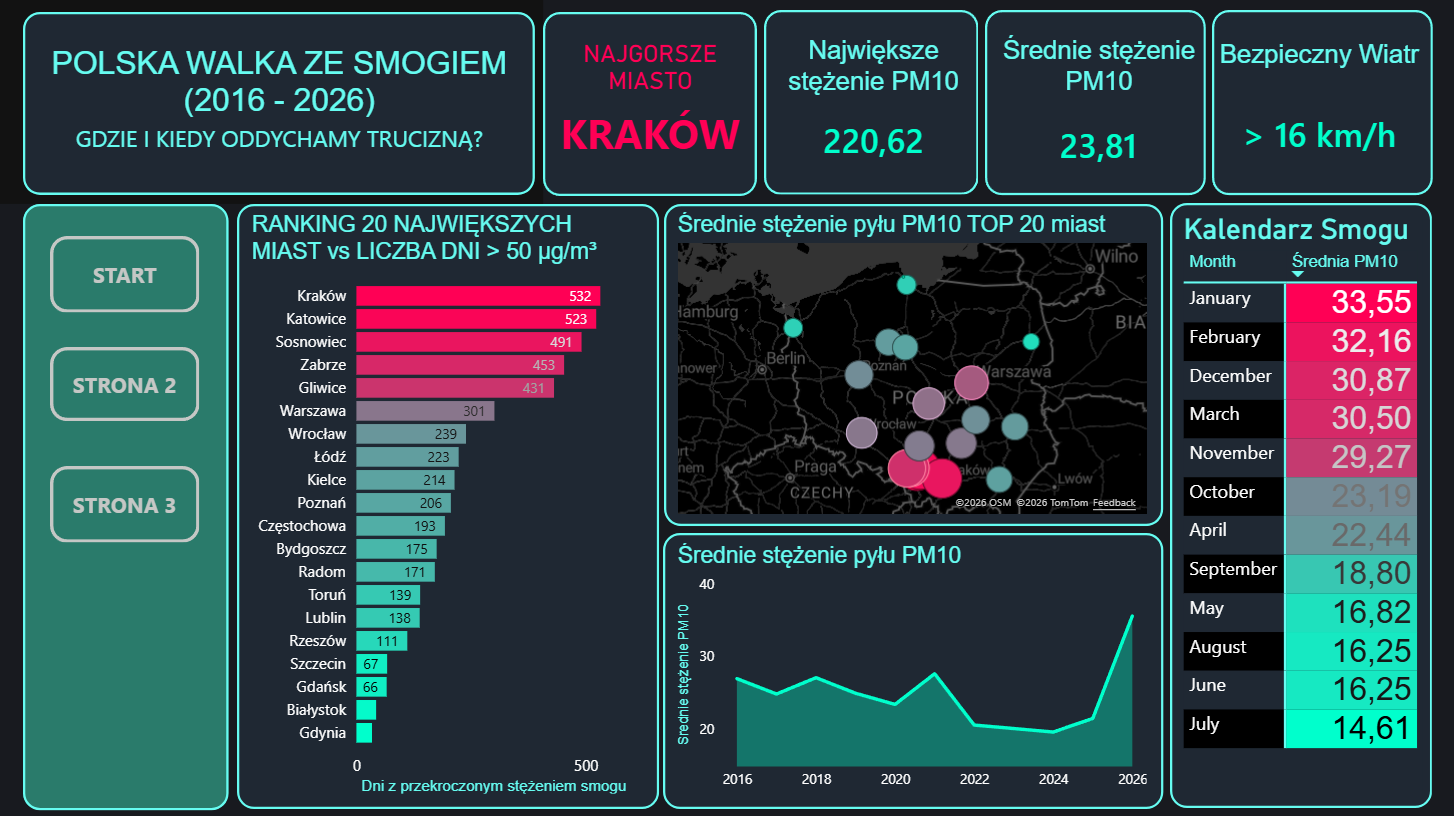

What the dashboard file says about the page in this screenshot:
{"tool":"powerbi","page":{"name":"Page 1","canvas":[1280,720],"ordinal":0},"visuals":[{"type":"shape","box":[21.7,180.6,180.6,532.6],"z":0},{"type":"shape","box":[0,0,479,180.9],"z":1000},{"type":"shape","box":[22.2,12.1,449.7,160.7],"z":2000},{"type":"shape","box":[1029.7,179.9,230.4,531.5],"z":3000},{"type":"shape","box":[673.2,10.7,188.4,162.4],"z":4000},{"type":"shape","box":[1066.1,10.1,194,162.7],"z":5000},{"type":"shape","box":[479,12.1,188,161.7],"z":6000},{"type":"shape","box":[867,10.1,194,162.7],"z":7000},{"type":"shape","box":[584.1,469.9,439.6,242.5],"z":8000},{"type":"shape","box":[210.2,180.9,370.9,531.5],"z":9000},{"type":"shape","box":[585.1,180.9,438.6,289],"z":10000},{"type":"barChart","title":"RANKING  20 NAJWIĘKSZYCH MIAST vs LICZBA DNI > 50 µg/m³","fields":{"Category":["pbi_ranking_cities.city"],"Y":["Sum(pbi_ranking_cities.Days_Exceeding)"]},"box":[218.3,188,354.7,516.4],"z":11000},{"type":"azureMap","title":"Średnie stężenie pyłu PM10 TOP 20 miast ","fields":{"Category":["pbi_ranking_cities.city"],"Size":["Avg(pbi_ranking_cities.Avg_PM10)"]},"box":[592.2,188,422.4,269.8],"z":12000},{"type":"actionButton","box":[45.7,306.3,131.4,65.1],"z":13000},{"type":"actionButton","box":[45.7,411.4,131.4,67.4],"z":14000},{"type":"actionButton","box":[45.7,209.1,131.4,67.4],"z":15000},{"type":"stackedAreaChart","title":"Średnie stężenie pyłu PM10","fields":{"Y":["Avg(dane_polska_2004_2026.pm10)"],"Category":["dane_polska_2004_2026.time.Variation.Date Hierarchy.Year"]},"box":[592.2,479,422.4,225.3],"z":16000},{"type":"pivotTable","title":"Kalendarz Smogu","fields":{"Values":["Avg(dane_polska_2004_2026.pm10)"],"Rows":["dane_polska_2004_2026.time.Variation.Date Hierarchy.Month"]},"box":[1036.8,188,215.2,517.4],"z":17000},{"type":"cardVisual","title":"Średnie stężenie PM10","fields":{"Data":["Avg(dane_polska_2004_2026.pm10)"]},"box":[873.1,32.3,188,155.6],"z":18000},{"type":"cardVisual","title":"Największe stężenie PM10","fields":{"Data":["Max(dane_polska_2004_2026.pm10)"]},"box":[671,32.3,196,147.5],"z":19000},{"type":"cardVisual","title":"Bezpieczny Wiatr","fields":{"Data":["dane_polska_2004_2026.KPI_Bezpieczny_Wiatr"]},"box":[1061.1,36.4,199.1,155.6],"z":20000},{"type":"textbox","title":"NAJGORSZE MIASTO","box":[483,36.4,179.9,115.2],"z":21000},{"type":"textbox","title":"POLSKA WALKA ZE SMOGIEM (2016 - 2026)","box":[10.3,42.3,473.1,102.9],"z":22000}]}

Visuals, with their boxes in screenshot pixels (x1, y1, x2, y2), scaled from the page's 1280x720 canvas onto the 1454x816 screenshot:
shape: bbox=(25, 205, 230, 808)
shape: bbox=(0, 0, 544, 205)
shape: bbox=(25, 14, 536, 196)
shape: bbox=(1170, 204, 1431, 806)
shape: bbox=(765, 12, 979, 196)
shape: bbox=(1211, 11, 1431, 196)
shape: bbox=(544, 14, 758, 197)
shape: bbox=(985, 11, 1205, 196)
shape: bbox=(664, 533, 1163, 807)
shape: bbox=(239, 205, 660, 807)
shape: bbox=(665, 205, 1163, 533)
"RANKING  20 NAJWIĘKSZYCH MIAST vs LICZBA DNI > 50 µg/m³" barChart: bbox=(248, 213, 651, 798)
"Średnie stężenie pyłu PM10 TOP 20 miast " azureMap: bbox=(673, 213, 1153, 519)
actionButton: bbox=(52, 347, 201, 421)
actionButton: bbox=(52, 466, 201, 543)
actionButton: bbox=(52, 237, 201, 313)
"Średnie stężenie pyłu PM10" stackedAreaChart: bbox=(673, 543, 1153, 798)
"Kalendarz Smogu" pivotTable: bbox=(1178, 213, 1422, 799)
"Średnie stężenie PM10" cardVisual: bbox=(992, 37, 1205, 213)
"Największe stężenie PM10" cardVisual: bbox=(762, 37, 985, 204)
"Bezpieczny Wiatr" cardVisual: bbox=(1205, 41, 1432, 218)
"NAJGORSZE MIASTO" textbox: bbox=(549, 41, 753, 172)
"POLSKA WALKA ZE SMOGIEM (2016 - 2026)" textbox: bbox=(12, 48, 549, 165)
